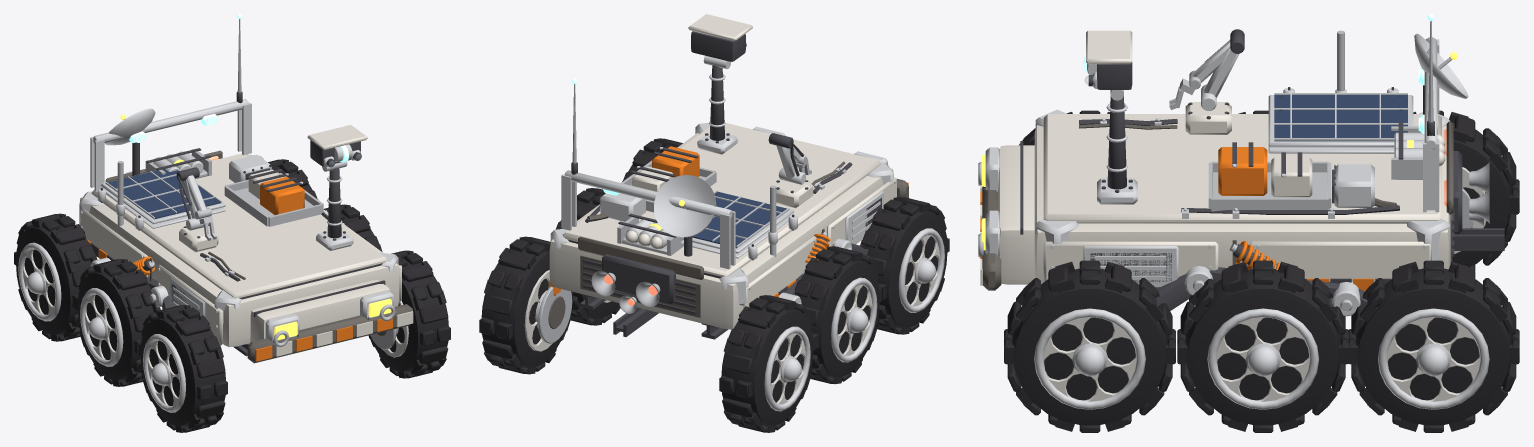
The model's file is rover.glb.
3 renders of one model, left to right at view 1: azimuth 30°, elevation 25°; view 2: azimuth 150°, elevation 25°; view 3: azimuth 270°, elevation 25°, orthographic. The views are drawn at different scales.
Parts seen in each view (by area): view 1: deck, wheel_0, hull, wheel_4, wheel_2, wheel_1, nose, solar_cells, bumper, plate_-1_1, crate_1, cagebar (+29 smaller); view 2: deck, wheel_4, hull, wheel_5, wheel_0, wheel_2, dish, thr_mount, solar_cells, plate_-1_1, tailhouse, cagebar (+32 smaller); view 3: deck, wheel_1, wheel_5, wheel_3, hull, plate_1_1, solar_cells, nose, wheel_4, rimflange_1, rimflange_3, rimflange_5 (+42 smaller).
Boxes of the visible parts, x1,y1,x2,y2 form: deck: [91, 153, 387, 298]; wheel_0: [139, 305, 227, 432]; hull: [79, 196, 399, 347]; wheel_4: [14, 214, 95, 341]; wheel_2: [76, 259, 155, 386]; wheel_1: [370, 250, 449, 378]; nose: [248, 280, 390, 344]; solar_cells: [107, 169, 221, 219]; bumper: [247, 304, 412, 363]; plate_-1_1: [80, 209, 148, 277]; crate_1: [260, 176, 304, 214]; cagebar: [93, 99, 248, 143]; deck: [562, 123, 880, 276]; wheel_4: [720, 295, 813, 432]; hull: [549, 132, 893, 329]; wheel_5: [480, 237, 573, 373]; wheel_0: [862, 197, 948, 334]; wheel_2: [795, 246, 880, 383]; dish: [654, 175, 716, 237]; thr_mount: [602, 254, 675, 304]; solar_cells: [692, 191, 787, 248]; plate_-1_1: [743, 236, 816, 308]; tailhouse: [578, 236, 703, 279]; cagebar: [564, 170, 732, 217]; deck: [1043, 114, 1441, 223]; wheel_1: [1004, 260, 1175, 432]; wheel_5: [1348, 260, 1519, 432]; wheel_3: [1177, 260, 1348, 432]; hull: [1034, 125, 1450, 284]; plate_1_1: [1249, 241, 1430, 281]; solar_cells: [1274, 95, 1407, 141]; nose: [998, 145, 1035, 284]; wheel_4: [1438, 110, 1519, 271]; rimflange_1: [1034, 308, 1145, 409]; rimflange_3: [1207, 308, 1318, 409]; rimflange_5: [1378, 308, 1489, 409].
Bounding box in the file's own units: 3.32 × 3.09 × 3.97.
